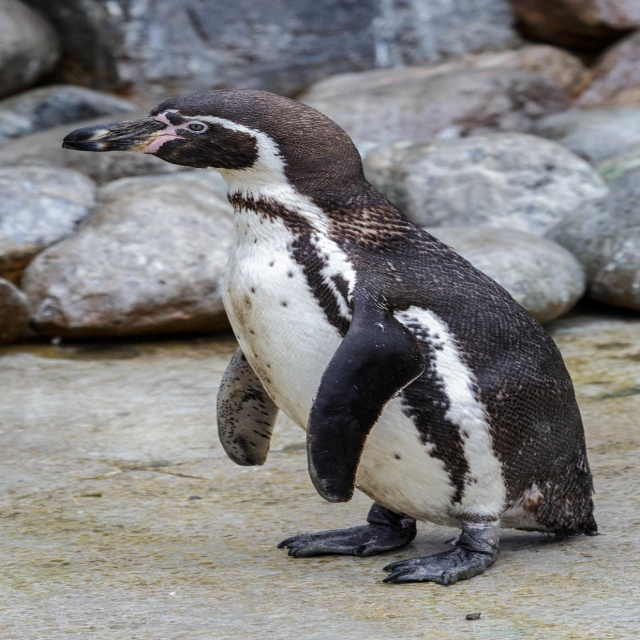Penguin: (76, 102, 635, 582)
